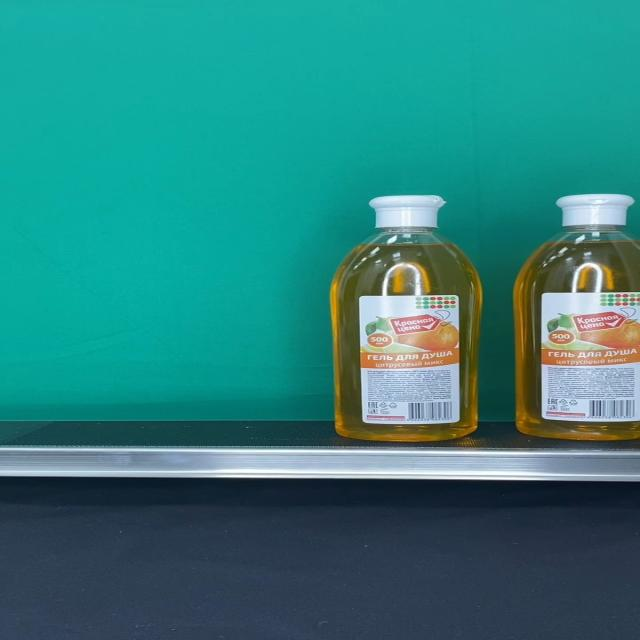Bottle: (330, 194, 483, 440), (514, 193, 640, 441)
Cap: (369, 195, 447, 229), (554, 194, 636, 226)
